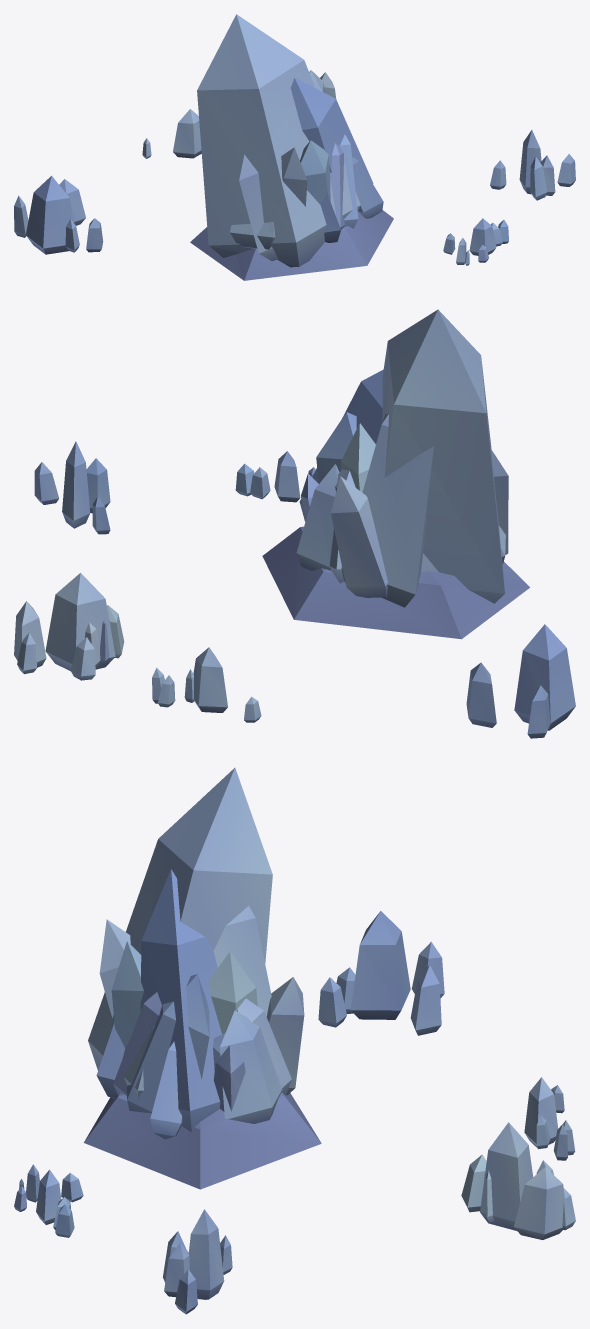
The model's file is crystal_cluster.glb.
3 views of the same model, one above another, from view 1: azimuth 30°, elevation 25°; view 2: azimuth 150°, elevation 25°; view 3: azimuth 270°, elevation 25° (orthographic). The views are drawn at different scales.
Parts seen in each view (by area): view 1: crystal_cluster.glb; view 2: crystal_cluster.glb; view 3: crystal_cluster.glb.
Part boxes in pixels (x1,y1,x2,y2): crystal_cluster.glb: (14, 14, 575, 280); crystal_cluster.glb: (14, 309, 575, 738); crystal_cluster.glb: (14, 767, 575, 1314).
Size of the model in its own units: 1 by 0.4906 by 0.7336.
